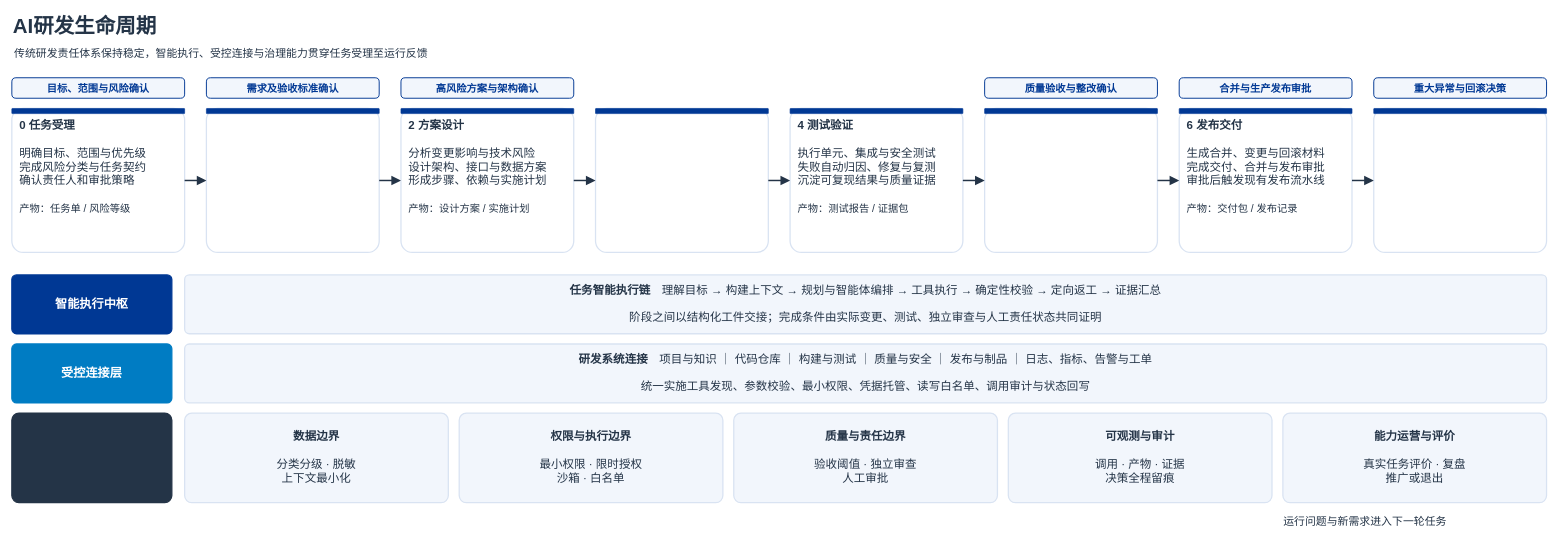
This 1558x544 diagram has some shape labels left out. Here are the shapes that lost their labels. From the top down, the box of each, then its label:
(205, 108, 380, 253): 1 需求分析 获取业务与项目上下文 澄清需求、约束与验收条件 标记来源、版本与信息缺口 产物：需求说明 / 验收标准
(595, 108, 769, 253): 3 开发实施 拆解任务并编排专业智能体 在受控分支与沙箱中实施 同步代码、配置、文档和决策 产物：代码 / 配置 / 文档
(984, 108, 1158, 253): 5 审查验收 提交触发并定时全量代码审核 独立审查正确性、安全与影响 完成整改闭环与质量验收 产物：审查结论 / 验收记录
(1373, 108, 1547, 253): 7 运行反馈 观测日志、指标、链路与告警 处理异常、工单与运行反馈 复盘并沉淀知识、规则和技能 产物：运行证据 / 改进任务
(11, 412, 172, 503): 贯穿式治理
